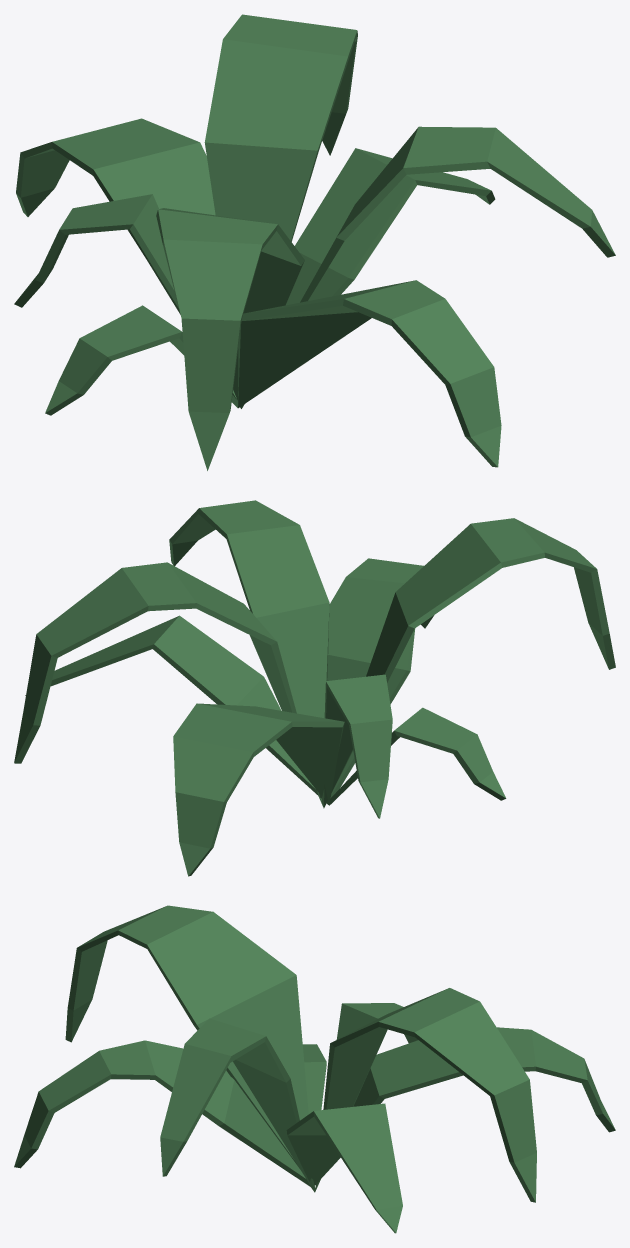
Rendered from bushes.fbx.
3 renders of one model, top to bottom at view 1: azimuth 30°, elevation 25°; view 2: azimuth 150°, elevation 25°; view 3: azimuth 270°, elevation 25°, orthographic. The views are drawn at different scales.
Parts seen in each view (by area): view 1: Plant_1_Plane.006; view 2: Plant_1_Plane.006; view 3: Plant_1_Plane.006.
Part boxes in pixels (bbox=[...]): Plant_1_Plane.006: bbox=[14, 14, 615, 470]; Plant_1_Plane.006: bbox=[14, 500, 615, 876]; Plant_1_Plane.006: bbox=[14, 905, 615, 1233].
Bounding box in the file's own units: 74.05 × 40.45 × 95.14.
